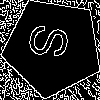S: (27, 22, 78, 62)
